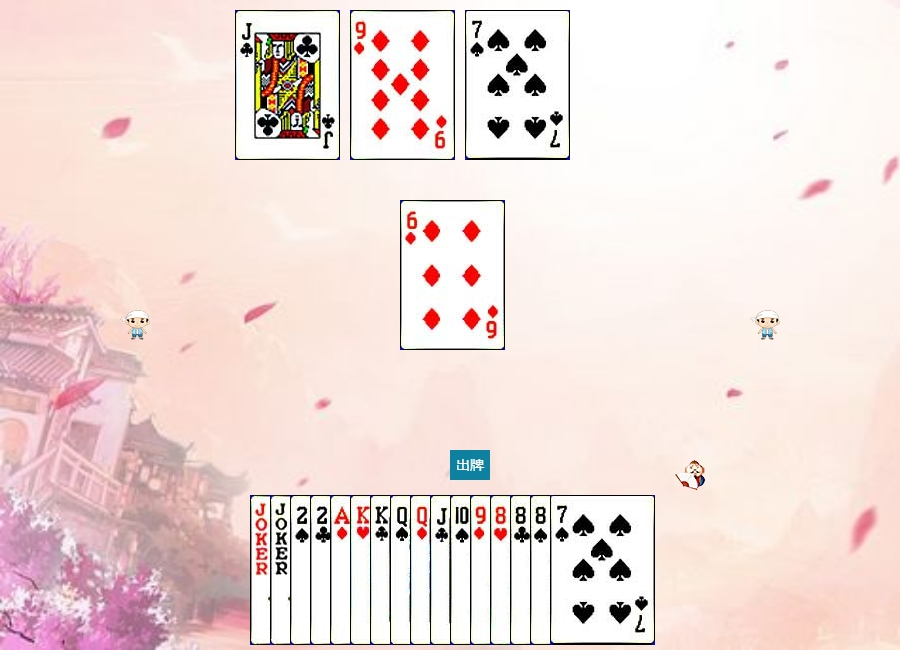10~4: (450, 495, 555, 645)
11~2: (235, 10, 340, 160), (430, 495, 535, 645)
12~1: (410, 495, 515, 645)
12~4: (390, 495, 495, 645)
13~2: (370, 495, 475, 645)
13~3: (350, 495, 455, 645)
14~1: (330, 495, 435, 645)
15~2: (310, 495, 415, 645)
15~4: (290, 495, 395, 645)
17~3: (270, 495, 375, 645)
18~4: (250, 495, 355, 645)
6~1: (400, 200, 505, 350)
7~4: (465, 10, 570, 160), (550, 495, 655, 645)
8~2: (510, 495, 615, 645)
8~3: (490, 495, 595, 645)
8~4: (530, 495, 635, 645)
9~1: (350, 10, 455, 160), (470, 495, 575, 645)
